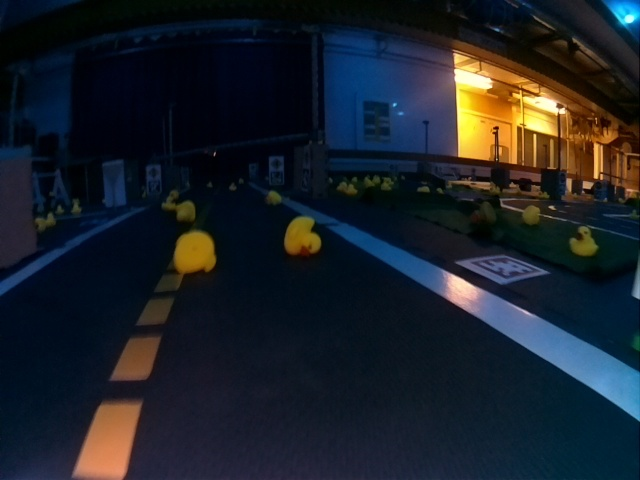Duckie: (171, 232, 216, 271), (283, 219, 321, 254), (569, 226, 597, 255), (176, 201, 196, 222), (267, 191, 281, 201)
QR code: (459, 254, 546, 285)
